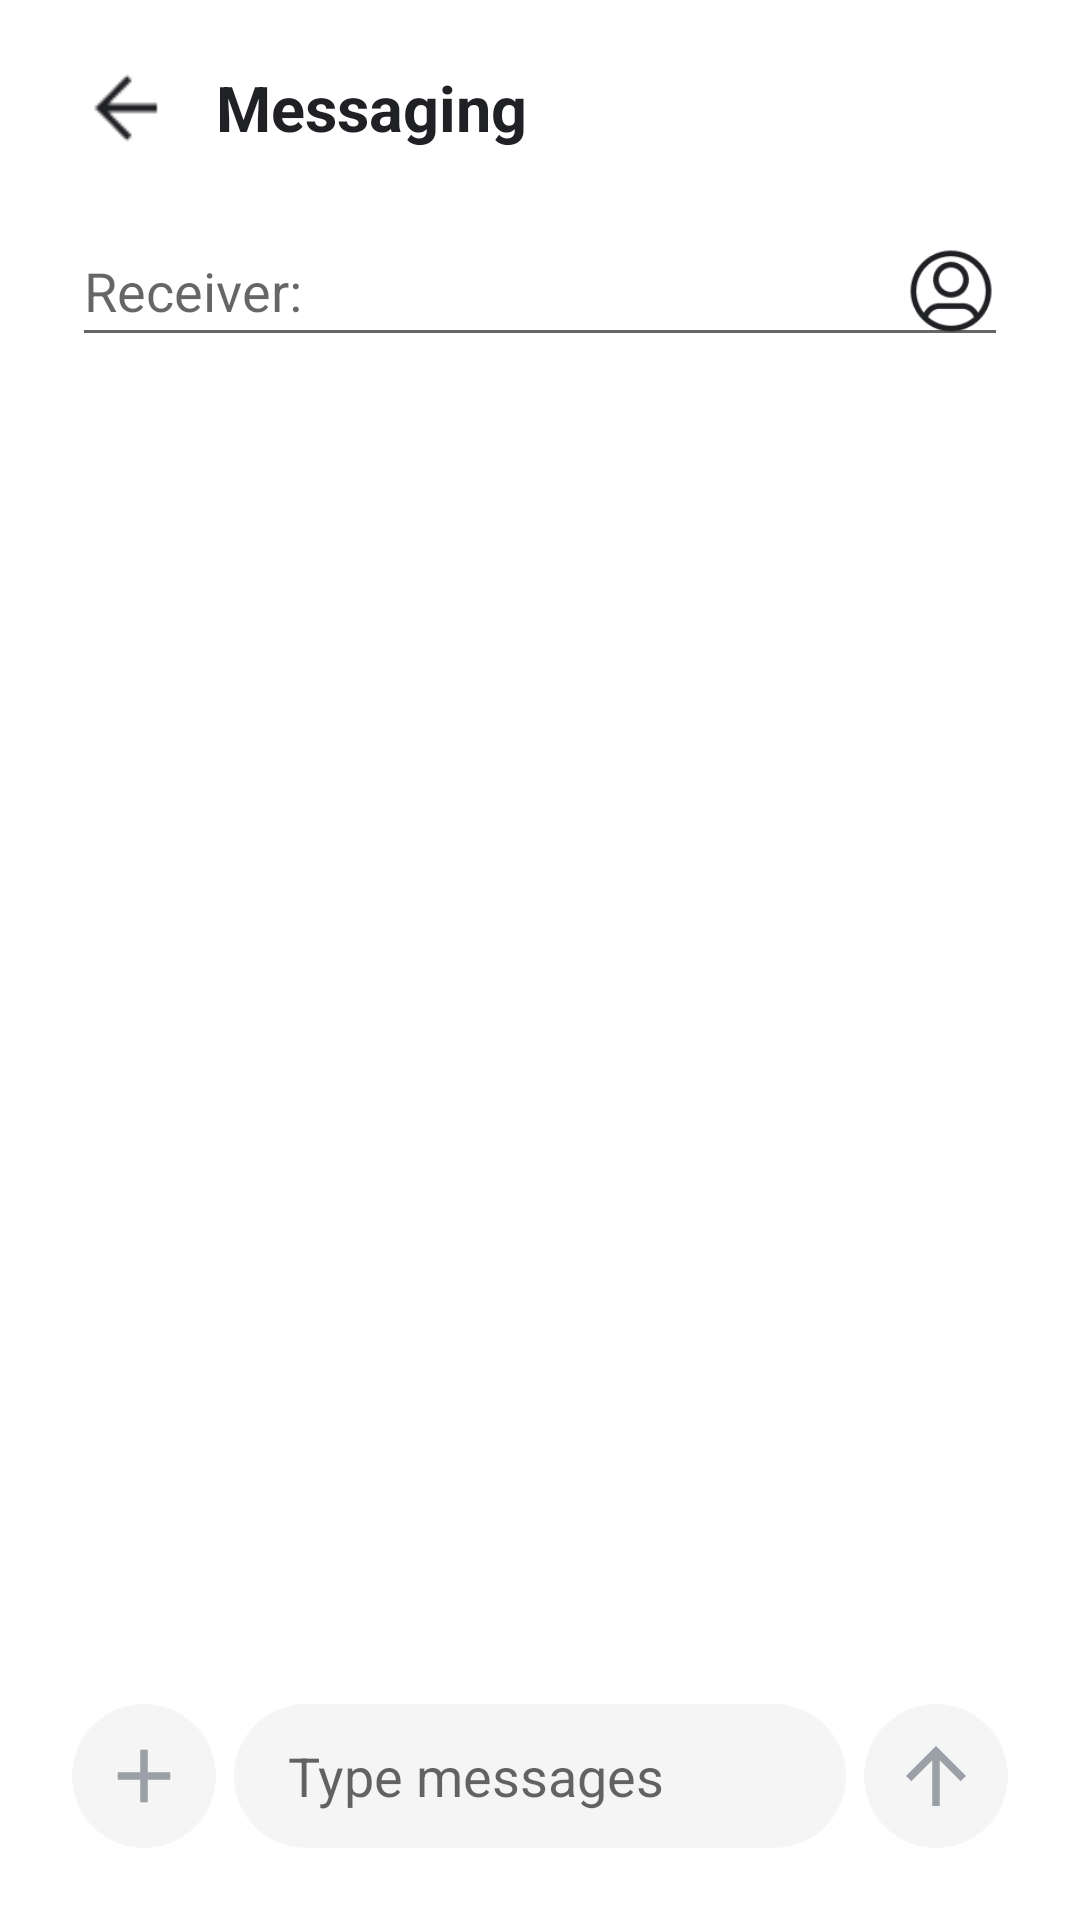

Named icons in this screenshot (1080 x 1920) and their centers, (x,y):
add: (144,1776)
send: (936,1776)
